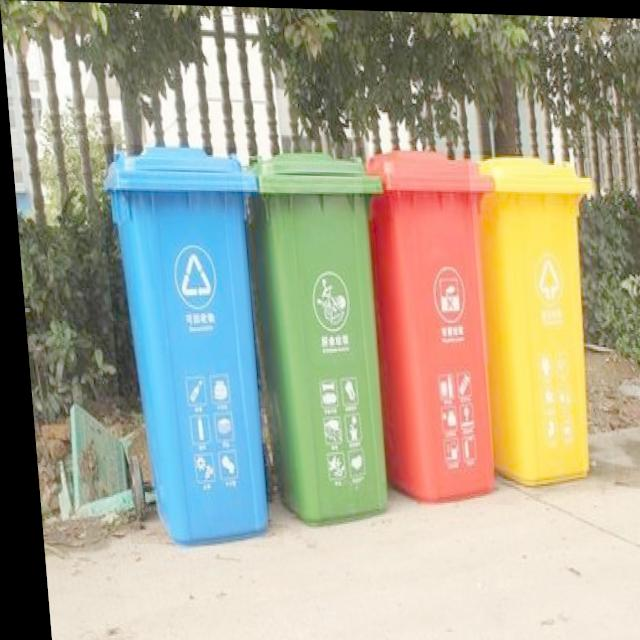garbage_bin: (96, 143, 276, 546), (237, 148, 400, 525), (357, 145, 513, 502), (466, 152, 609, 482)
